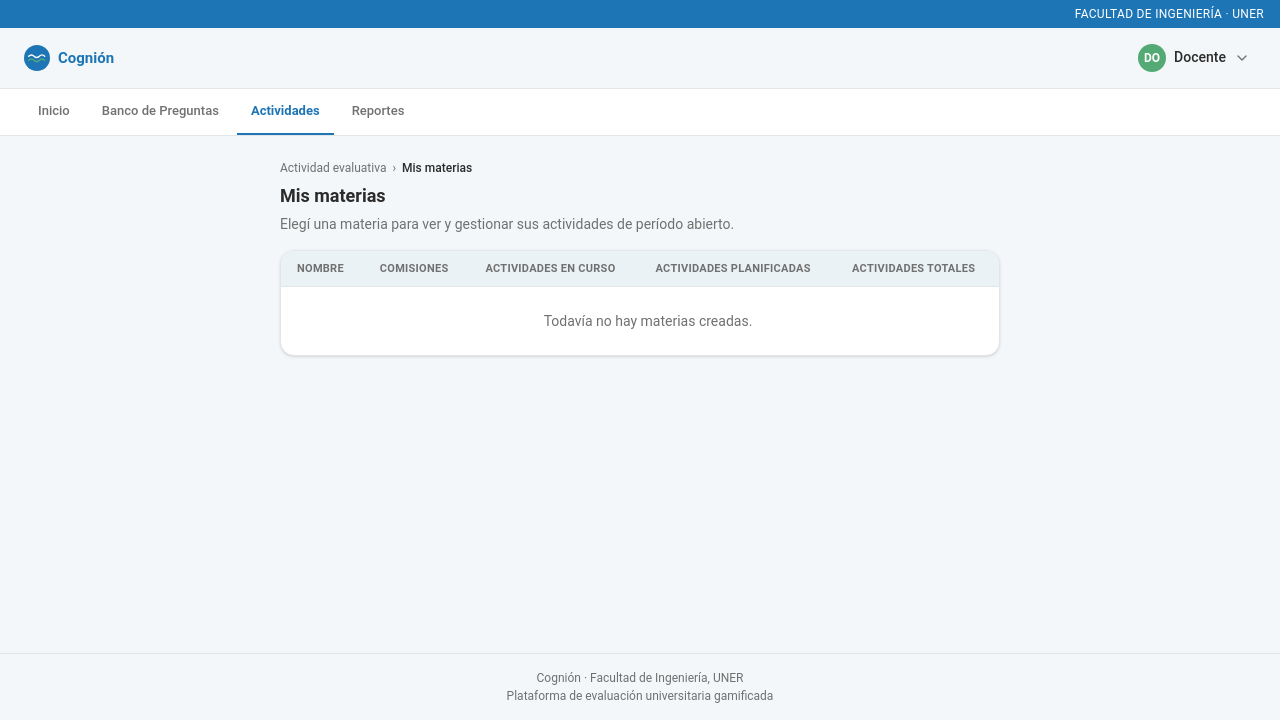
router (integración) › AppNav — navegación real por clic (US-ADJ-27) › Docente navega a Analytics por el menú y de ahí a Desempeño por comisión por la tarjeta
Expected: the heading "Mis materias" is shown, x1=280 y1=184 x2=386 y2=206
What coordinates should you click on to do the following:
click the link "Reportes"
I would click on:
 (378, 110)
Its box is x1=352 y1=103 x2=404 y2=118.
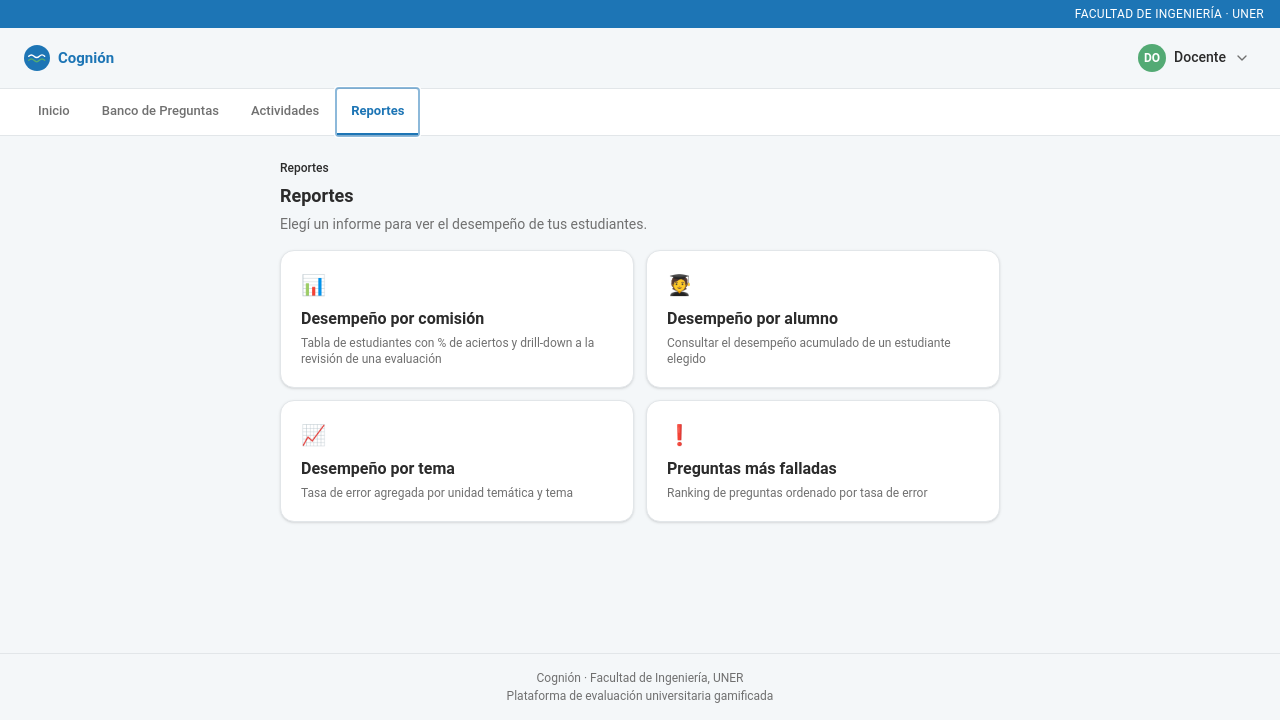
Expected: the heading "Reportes" is shown, x1=280 y1=184 x2=354 y2=206
What coordinates should you click on to do the following:
click the text "Desempeño por comisión"
I would click on:
 (393, 318)
Its box is x1=301 y1=308 x2=484 y2=328.
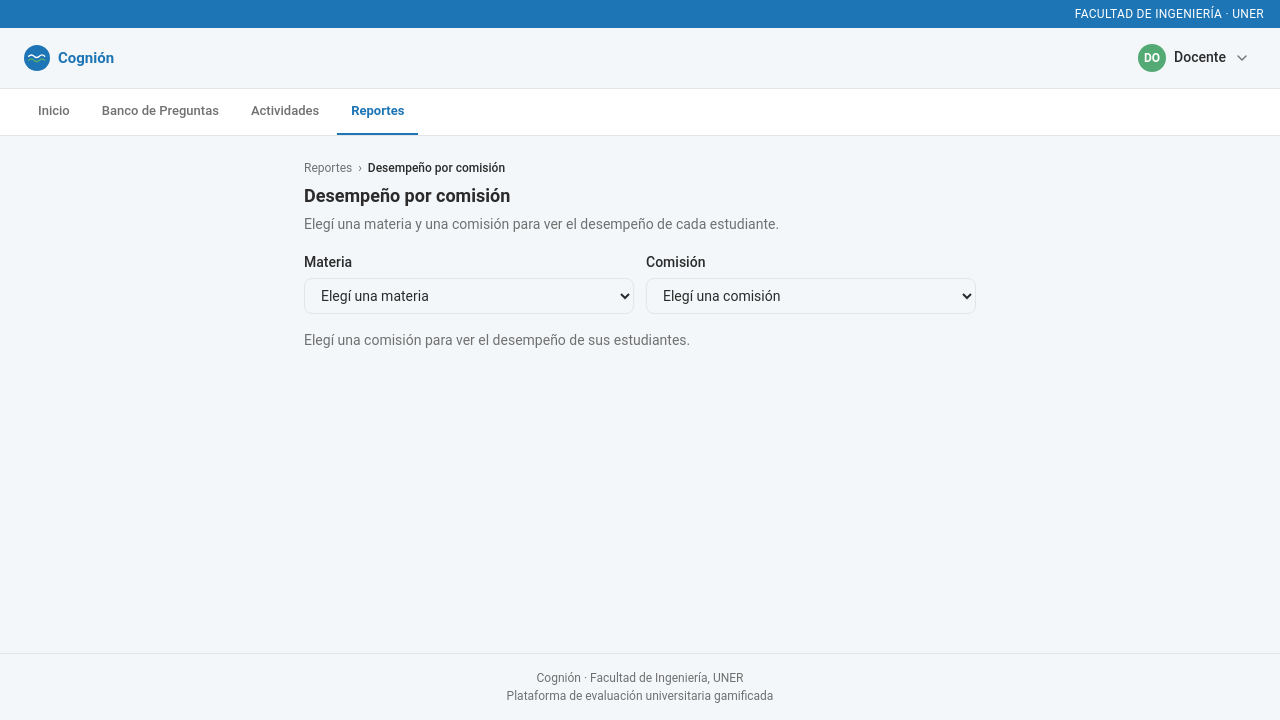
Expected: the heading "Desempeño por comisión" is shown, x1=304 y1=184 x2=510 y2=206
